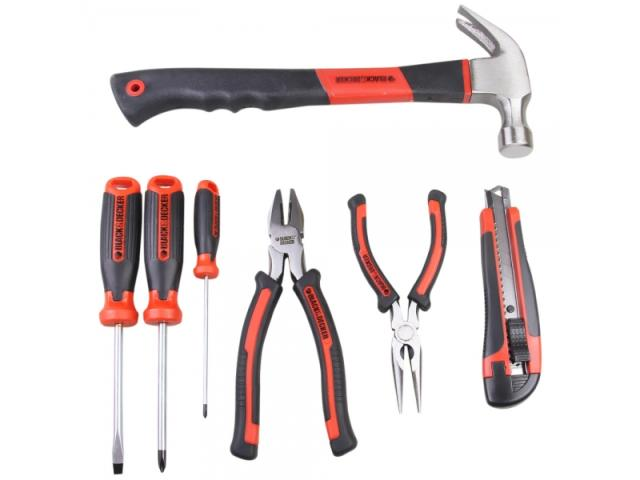Cutting pliers: (230, 190, 356, 459)
Hammer: (111, 5, 532, 158)
Needle-nose pliers: (348, 190, 446, 412)
Screwdriver: (99, 178, 141, 474), (144, 175, 184, 472), (194, 180, 220, 417)
Utility knife: (480, 186, 541, 408)
